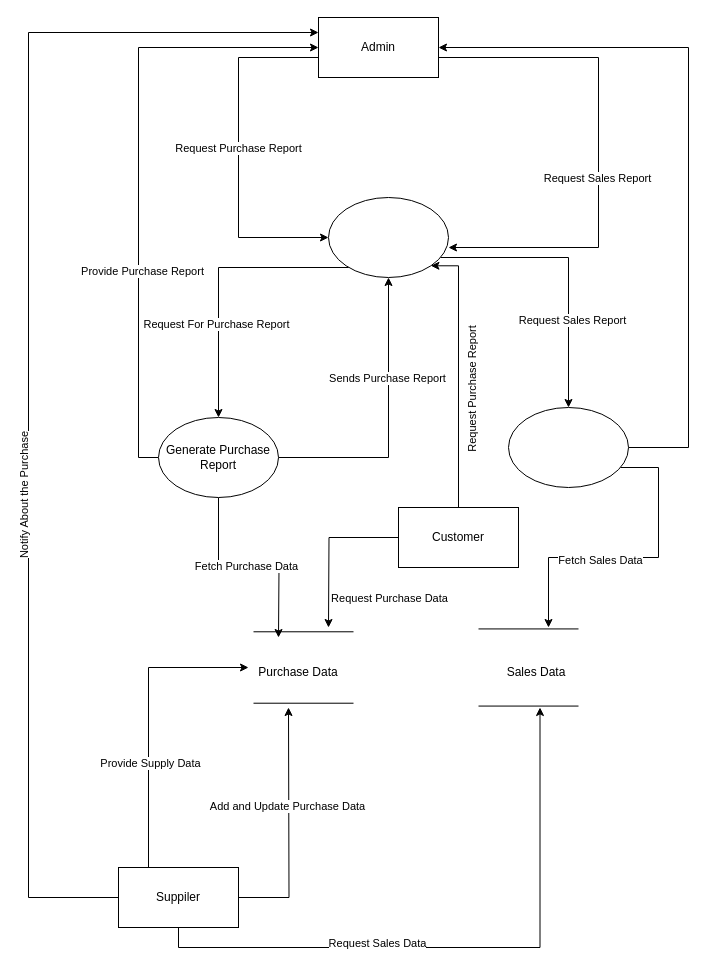
Image size: 714x973. Some labels were removed from this diagram. Each missing label, with the centre of its shape:
Generate Sales Report: pixel 568 447
Request report: pixel 388 237
